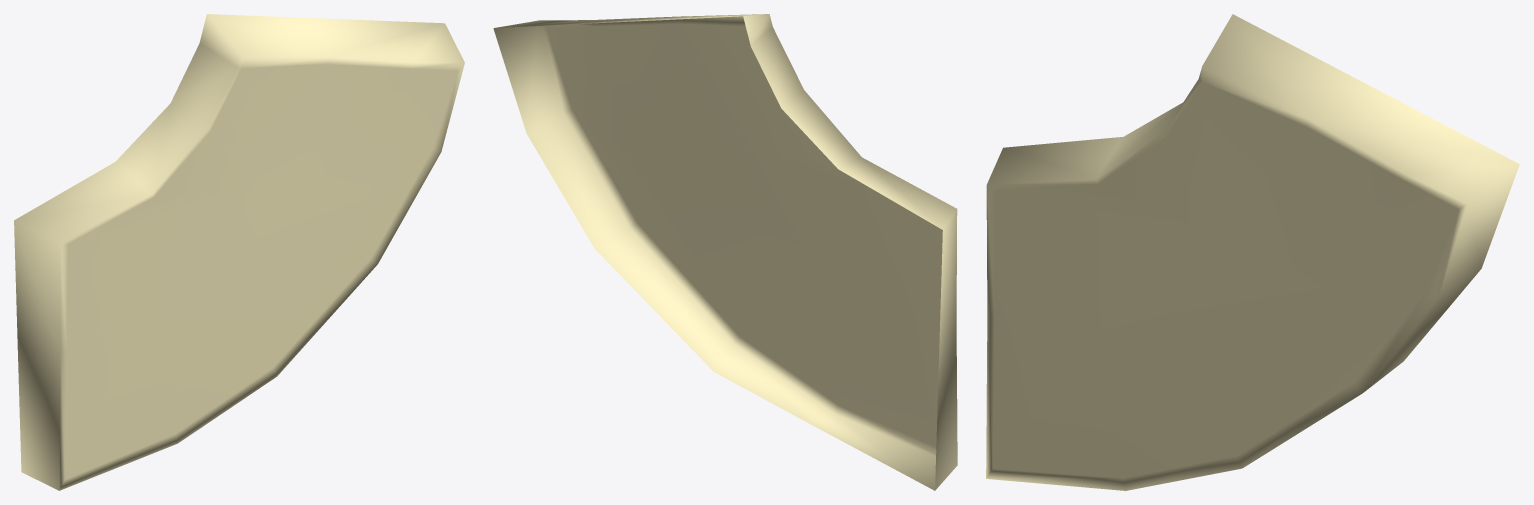
Rendered from ui_radialMenu_5_botRight.glb.
The picture shows the model from 3 angles, left to right: view 1: azimuth 30°, elevation 25°; view 2: azimuth 150°, elevation 25°; view 3: azimuth 330°, elevation 25°; orthographic projection. The views are drawn at different scales.
Visible parts, largest first — view 1: main5_botRight; view 2: main5_botRight; view 3: main5_botRight.
Boxes of the visible parts, bbox=[...] form: main5_botRight: bbox=[14, 14, 464, 490]; main5_botRight: bbox=[493, 14, 957, 490]; main5_botRight: bbox=[986, 14, 1519, 490].
Bounding box in the file's own units: 0.9898 × 0.9031 × 0.1293.
